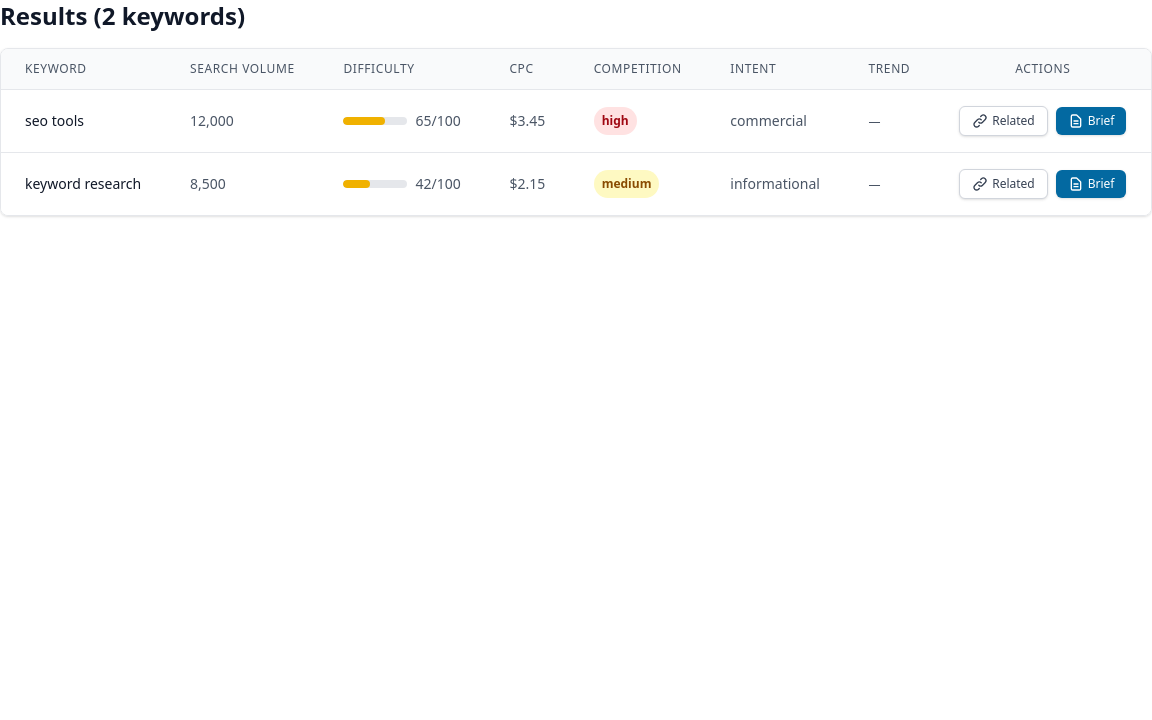
it: KeywordResultsTable › related keywords modal › should open related keywords modal when Related button is clicked
The width and height of the screenshot is (1152, 720).
Click the button "Related" in the row of "seo tools" at (1003, 121), box [959, 106, 1048, 136]
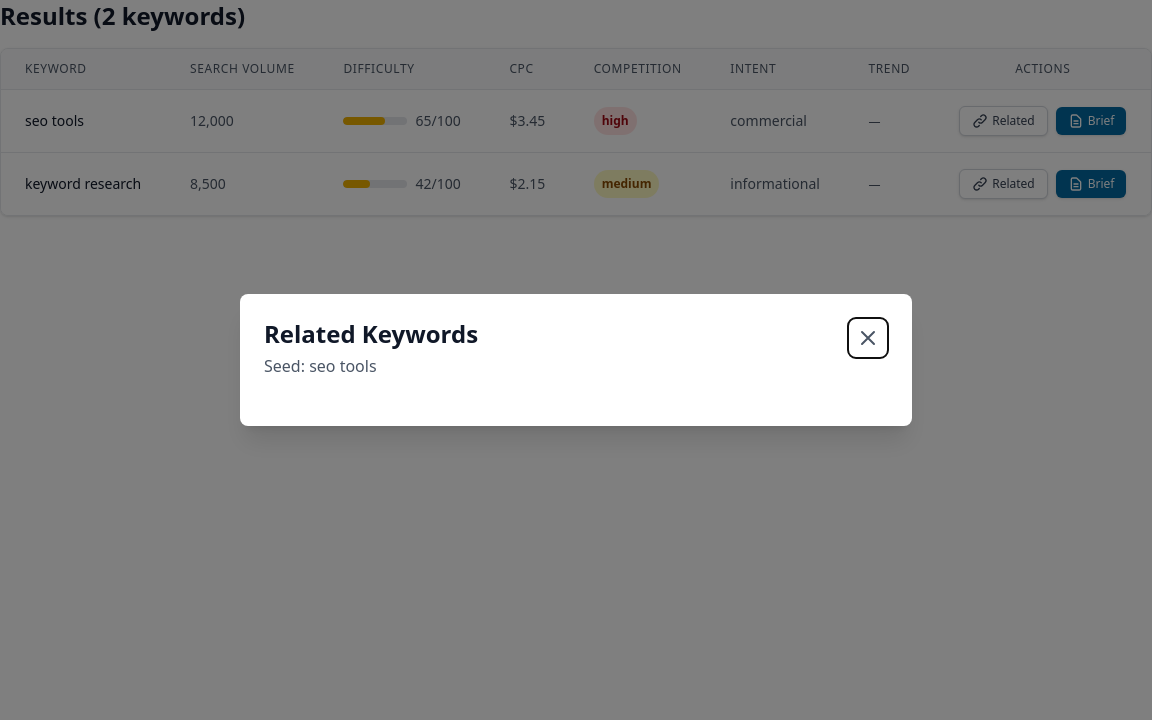
Now the dialog is shown
Now the heading "Related Keywords" is shown, box [264, 318, 478, 350]
